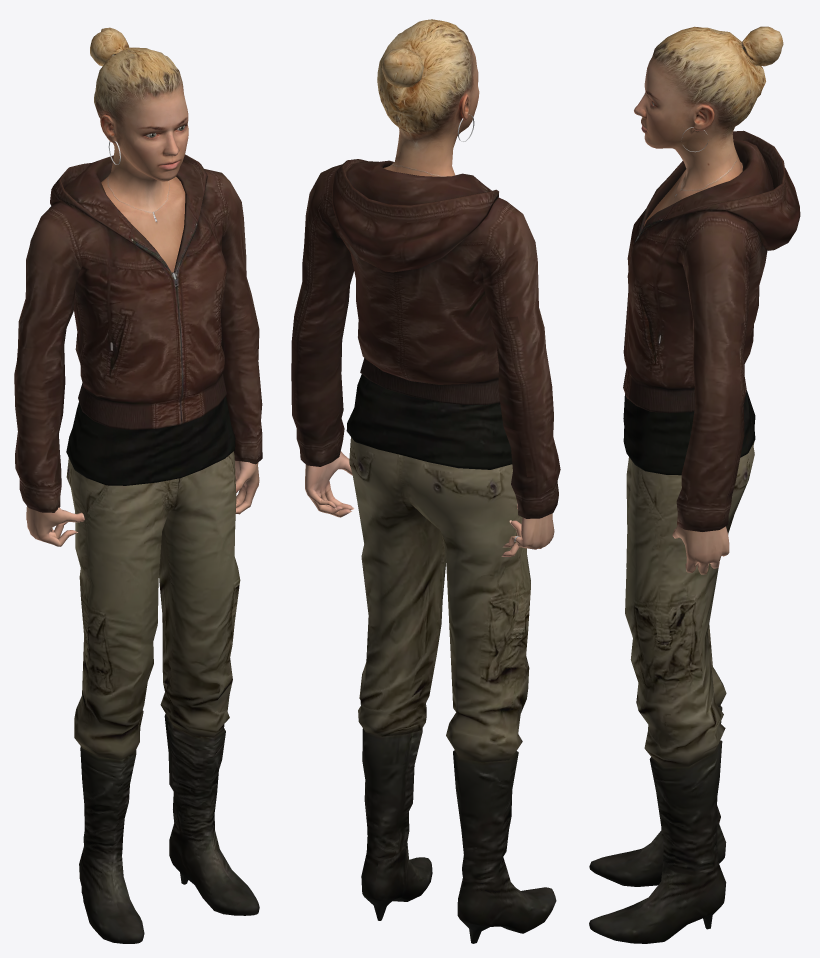
Rendered from biker.glb.
3 views of the same model, side by side, from view 1: azimuth 30°, elevation 25°; view 2: azimuth 150°, elevation 25°; view 3: azimuth 270°, elevation 25° (orthographic). The views are drawn at different scales.
Parts seen in each view (by area): view 1: biker; view 2: biker; view 3: biker.
Part boxes in pixels (box(x1,y1,x2,y2)): biker: box(14, 27, 262, 943); biker: box(291, 19, 560, 943); biker: box(589, 26, 800, 943).
Size of the model in its own units: 0.5174 by 1.77 by 0.3909.
3 materials, 3 textured.
